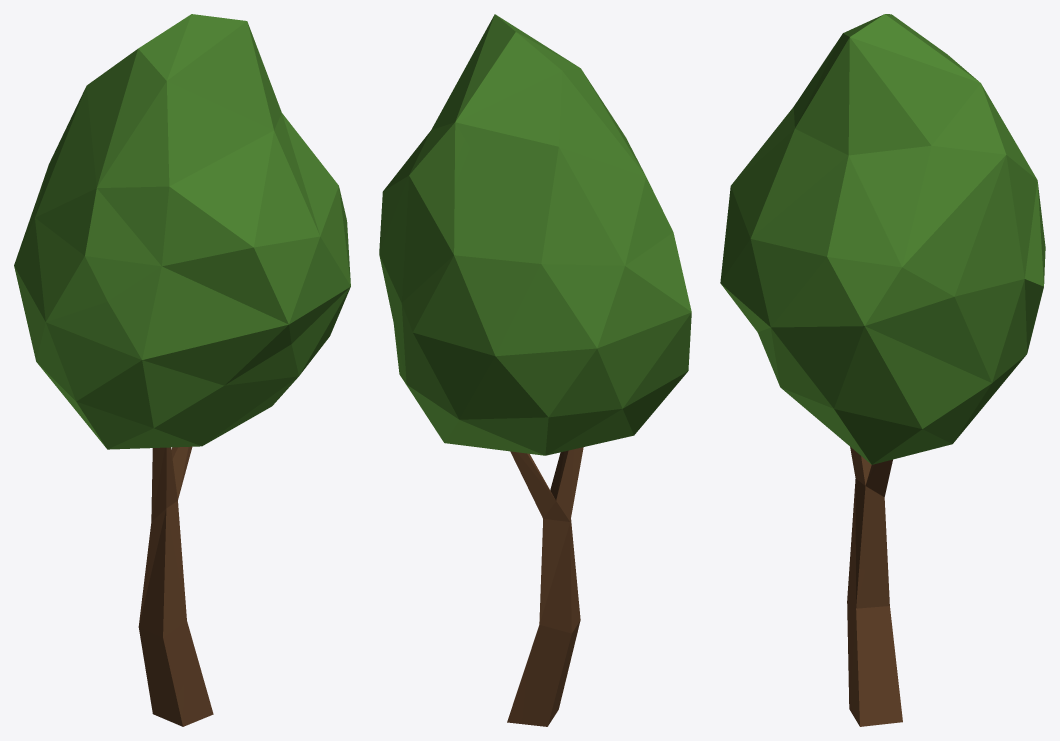
The model's file is Tree_02.fbx.
3 renders of one model, left to right at view 1: azimuth 30°, elevation 25°; view 2: azimuth 150°, elevation 25°; view 3: azimuth 270°, elevation 25°, orthographic. The views are drawn at different scales.
Parts seen in each view (by area): view 1: Tree_02; view 2: Tree_02; view 3: Tree_02.
Part boxes in pixels (left/top/right/bottom): Tree_02: left=14, top=14, right=350, bottom=726; Tree_02: left=379, top=14, right=691, bottom=726; Tree_02: left=720, top=14, right=1045, bottom=726.
Bounding box in the file's own units: 5.35 × 11.52 × 4.8.
